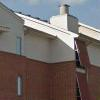Chimney: (47, 1, 81, 36)
